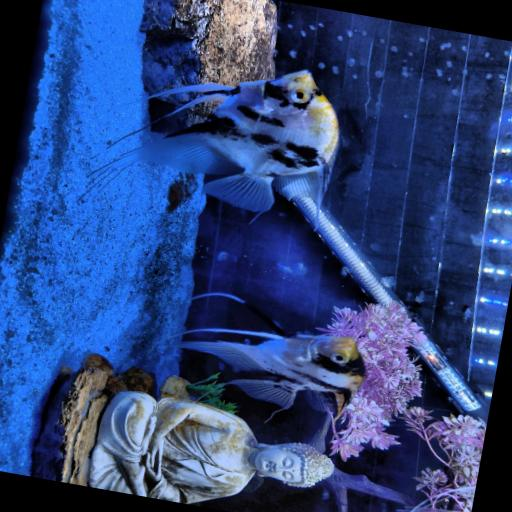Fish: (115, 71, 338, 211), (176, 329, 364, 418)
